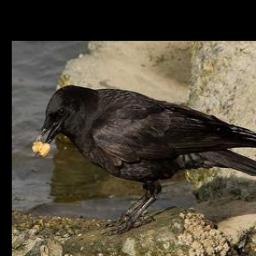Crow: (32, 83, 256, 235)
